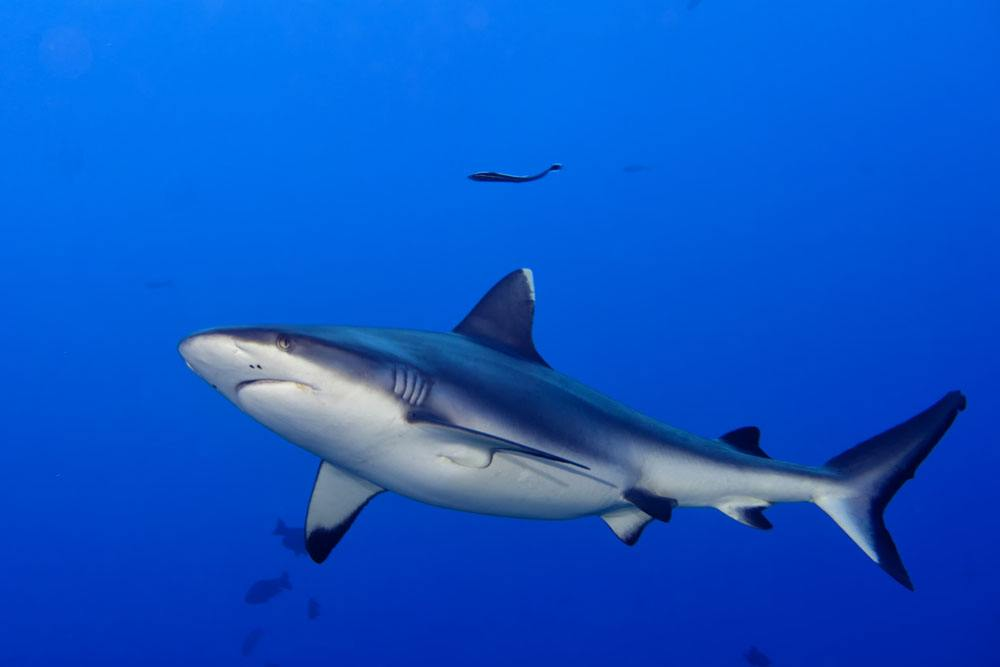shark: (170, 271, 964, 592)
